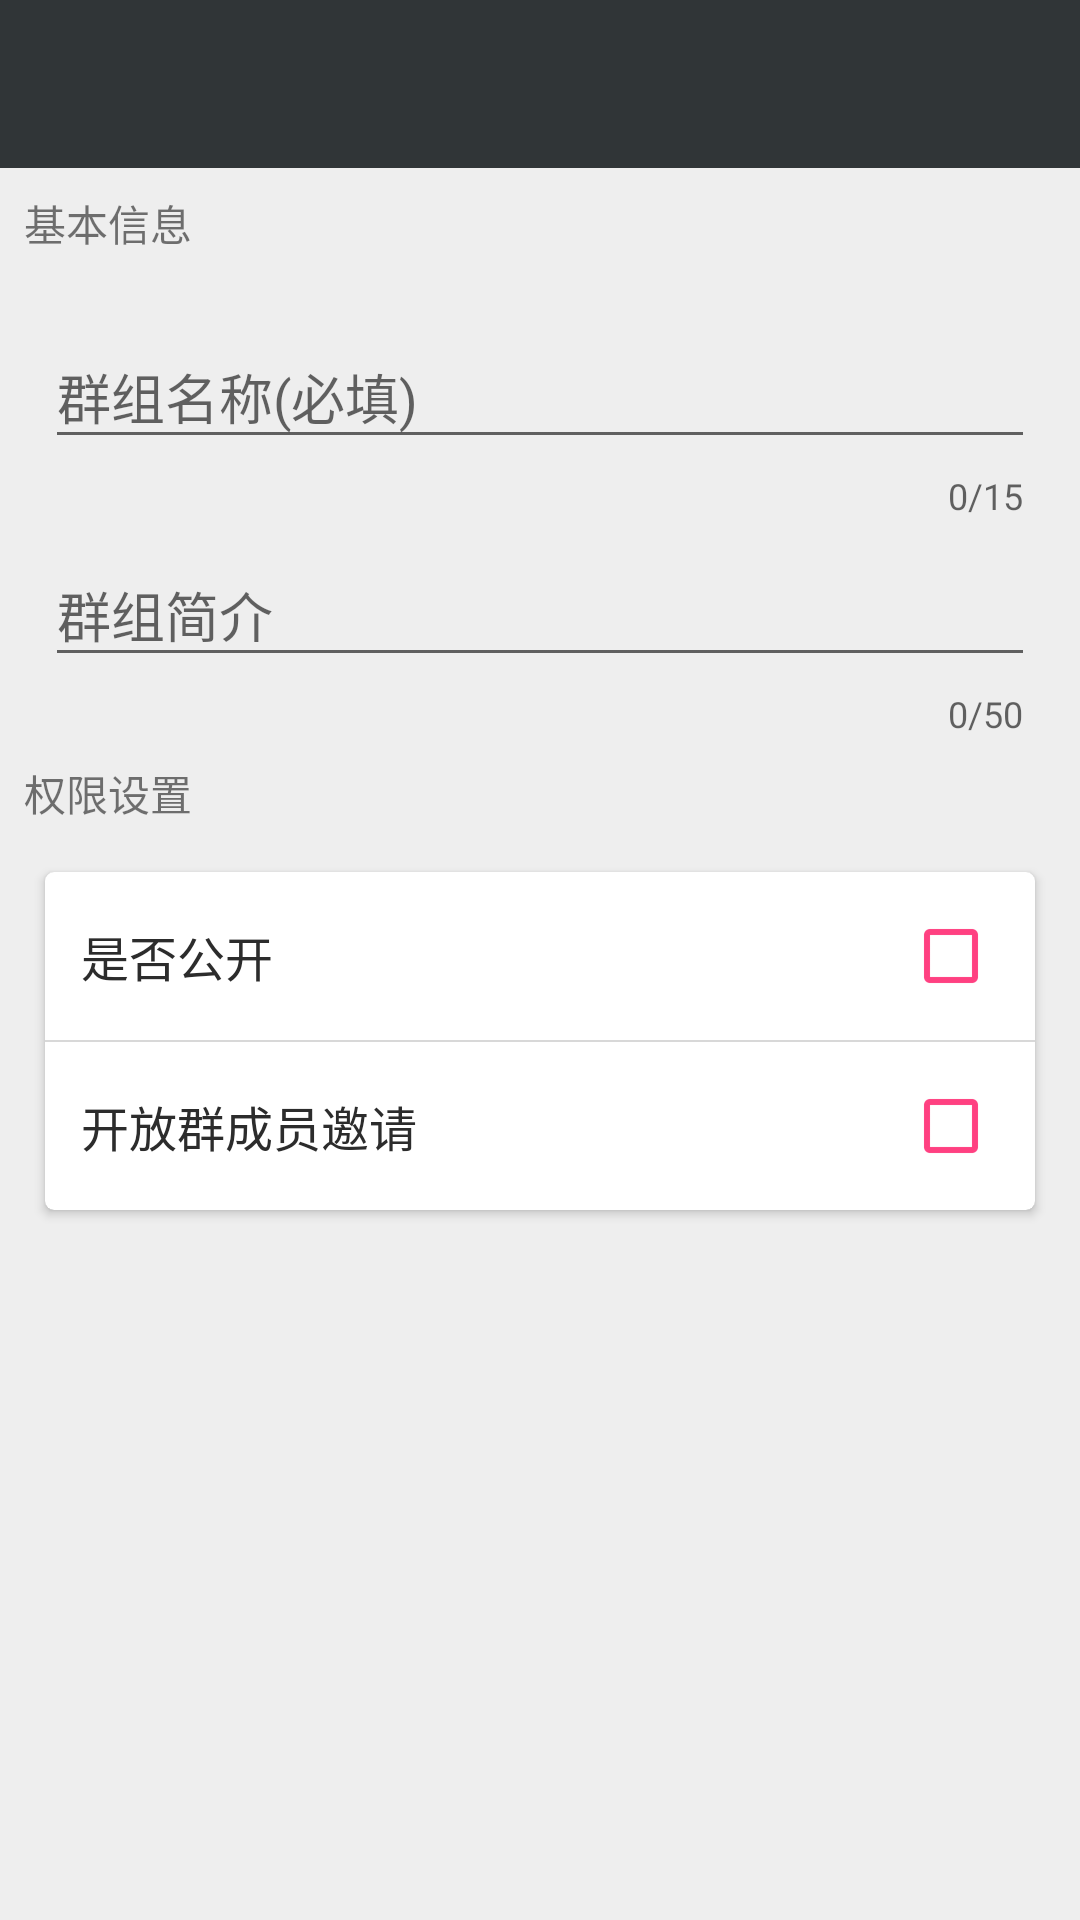

Where icons sit on this 1080×1920 app screen, as BBox(x1, y1, x2, y2):
check: BBox(924, 929, 978, 983), BBox(924, 1099, 978, 1153)
